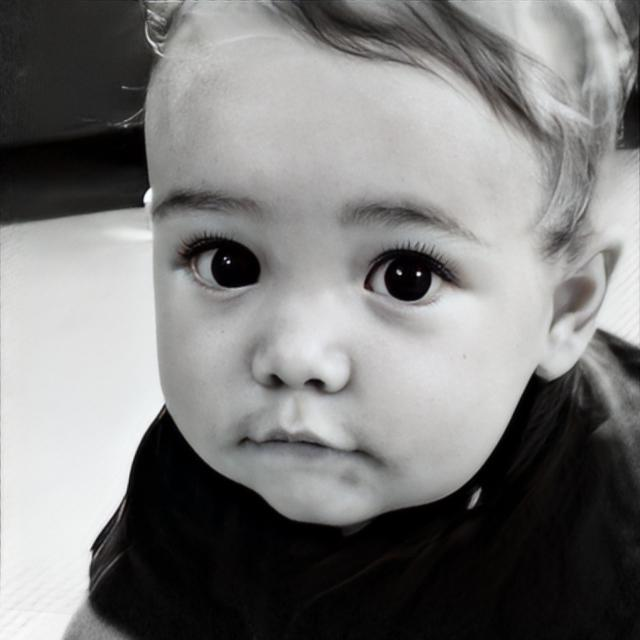surprise: (140, 0, 540, 530)
